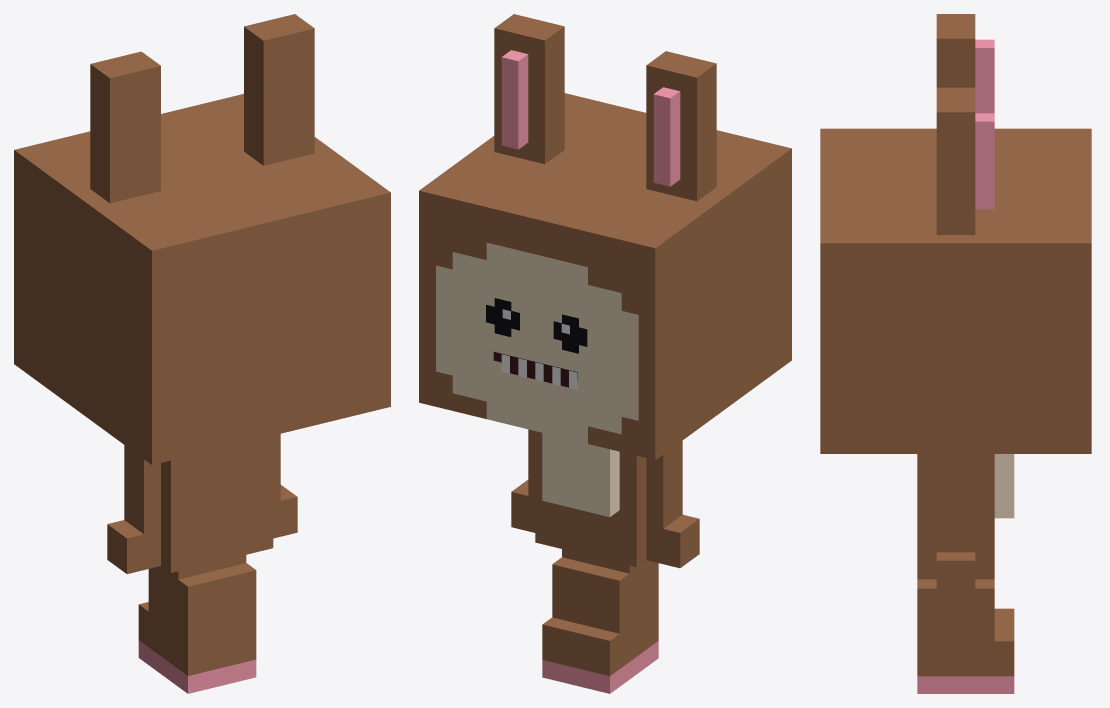
The model's file is personaje_labubu_baile.obj.
3 renders of one model, left to right at view 1: azimuth 30°, elevation 25°; view 2: azimuth 150°, elevation 25°; view 3: azimuth 270°, elevation 25°, orthographic.
Parts seen in each view (by area): view 1: pelo, orejas, torso, falda, bota_izq, bota_der, mano_izq, manga_izq, bota_izq_borde, suela_izq, mano_der, bota_der_borde (+2 smaller); view 2: pelo, cabeza, orejas, bota_izq, falda, orejas_dentro, torso_panza, bota_der, mano_izq, torso, manga_izq, cara_feliz_ojos (+8 smaller); view 3: pelo, orejas, bota_der, orejas_dentro, torso, falda, manga_der, suela_der, mano_der, bota_der_borde, torso_panza, brazo_der (+1 smaller).
Boxes of the visible parts, bbox=[...] form: pelo: bbox=[14, 94, 390, 464]; orejas: bbox=[90, 14, 314, 203]; torso: bbox=[161, 435, 273, 519]; falda: bbox=[161, 494, 273, 572]; bota_izq: bbox=[138, 576, 222, 675]; bota_der: bbox=[222, 588, 256, 667]; mano_izq: bbox=[107, 520, 160, 573]; manga_izq: bbox=[124, 449, 160, 516]; bota_izq_borde: bbox=[148, 566, 222, 604]; suela_izq: bbox=[138, 640, 222, 693]; mano_der: bbox=[273, 485, 297, 538]; bota_der_borde: bbox=[213, 563, 256, 596]; pelo: bbox=[419, 93, 791, 460]; cabeza: bbox=[436, 242, 638, 443]; orejas: bbox=[494, 14, 716, 201]; bota_izq: bbox=[576, 570, 658, 676]; falda: bbox=[535, 489, 646, 566]; orejas_dentro: bbox=[501, 50, 680, 186]; torso_panza: bbox=[542, 433, 619, 516]; bota_der: bbox=[542, 582, 585, 667]; mano_izq: bbox=[646, 514, 699, 568]; torso: bbox=[535, 431, 646, 513]; manga_izq: bbox=[646, 444, 682, 510]; cara_feliz_ojos: bbox=[486, 298, 587, 353]; pelo: bbox=[820, 128, 1091, 453]; orejas: bbox=[936, 14, 975, 234]; bota_der: bbox=[917, 606, 1014, 676]; orejas_dentro: bbox=[975, 39, 994, 209]; torso: bbox=[917, 454, 994, 526]; falda: bbox=[917, 526, 994, 579]; manga_der: bbox=[936, 482, 975, 534]; suela_der: bbox=[917, 676, 1014, 693]; mano_der: bbox=[936, 552, 975, 595]; bota_der_borde: bbox=[917, 579, 994, 606]; torso_panza: bbox=[994, 454, 1014, 518]; brazo_der: bbox=[936, 454, 975, 481].
Bounding box in the file's own units: 0.56 × 1.4 × 0.568.
